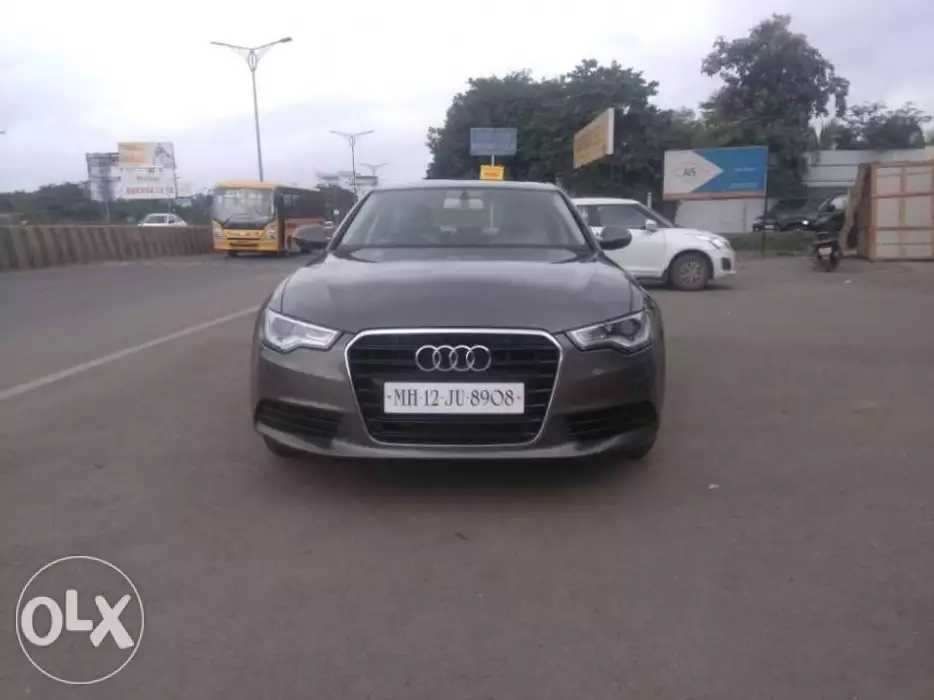licenseplate: (378, 377, 531, 418)
